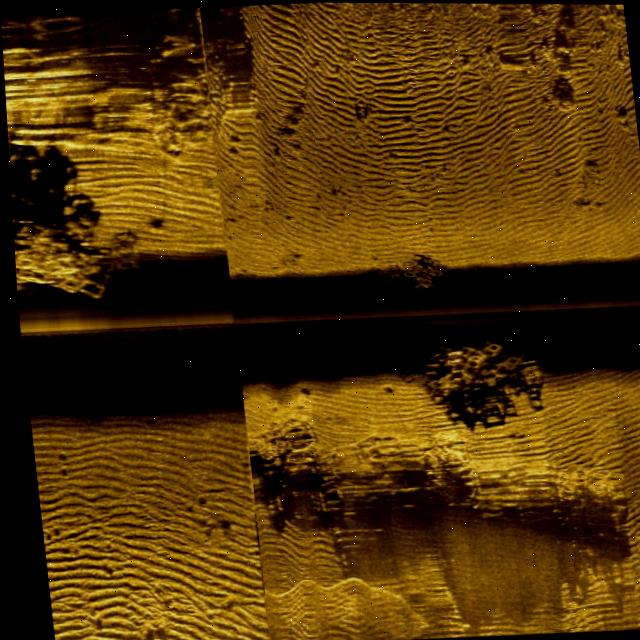artificial reef: (385, 337, 543, 422), (9, 200, 138, 301), (360, 248, 454, 297)
